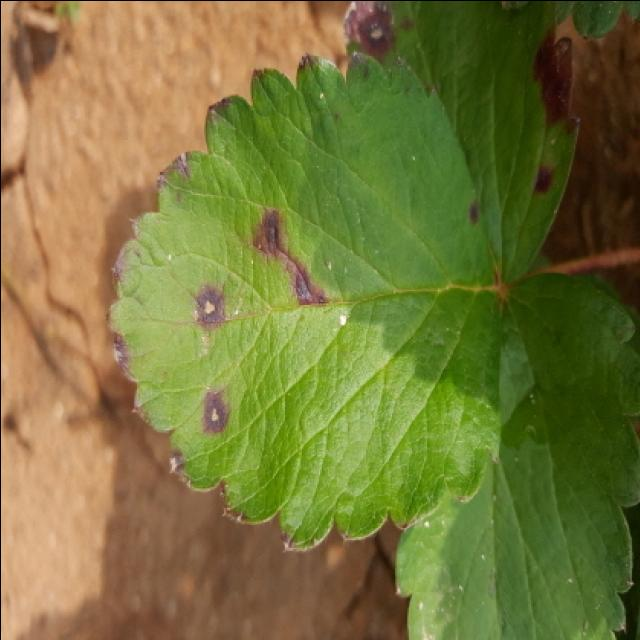Leaf Spot: (103, 51, 502, 549), (339, 2, 580, 290)
